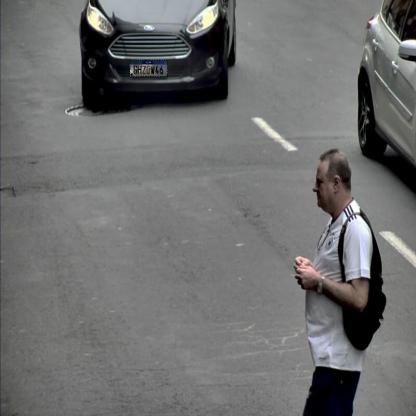PlacaM: (129, 60, 168, 77)
